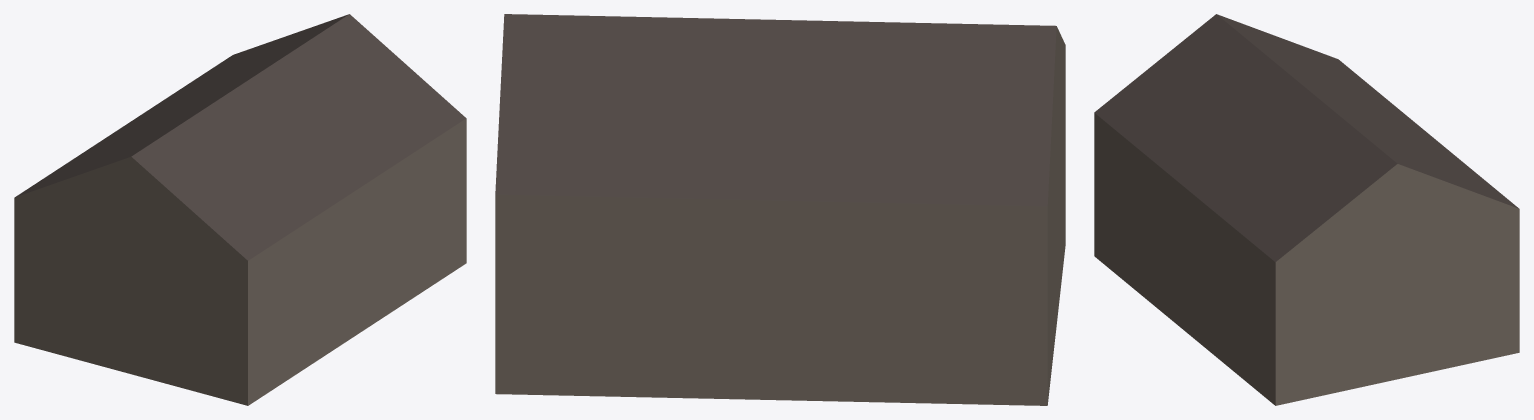
3 views of the same model, side by side, from view 1: azimuth 30°, elevation 25°; view 2: azimuth 150°, elevation 25°; view 3: azimuth 270°, elevation 25° (orthographic). The views are drawn at different scales.
Visible parts, largest first — view 1: HP-w859088441; view 2: HP-w859088441; view 3: HP-w859088441.
Part boxes in pixels (<box>): HP-w859088441: <box>14,14,466,405</box>; HP-w859088441: <box>495,14,1065,405</box>; HP-w859088441: <box>1094,14,1519,405</box>.
Size of the model in its own units: 18.19 by 9 by 16.11.
